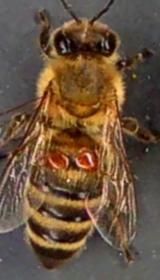varroa_mite: (40, 139, 72, 179), (68, 144, 96, 174)
